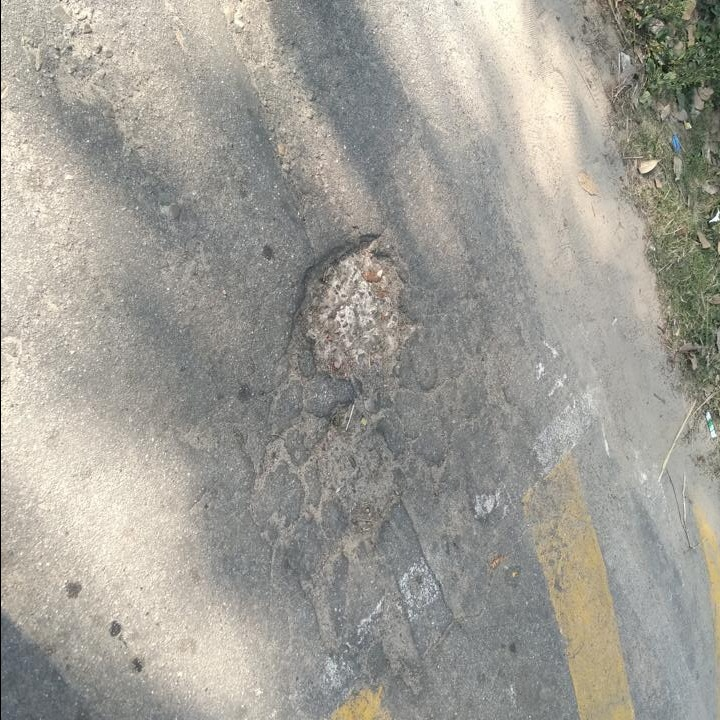pothole: (289, 226, 419, 393), (309, 396, 404, 554)
